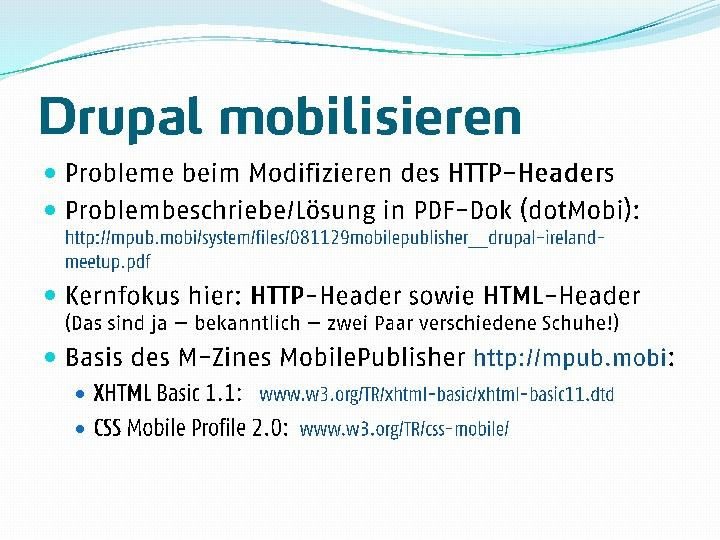paragraph: (37, 152, 696, 455)
title: (32, 85, 537, 149)
